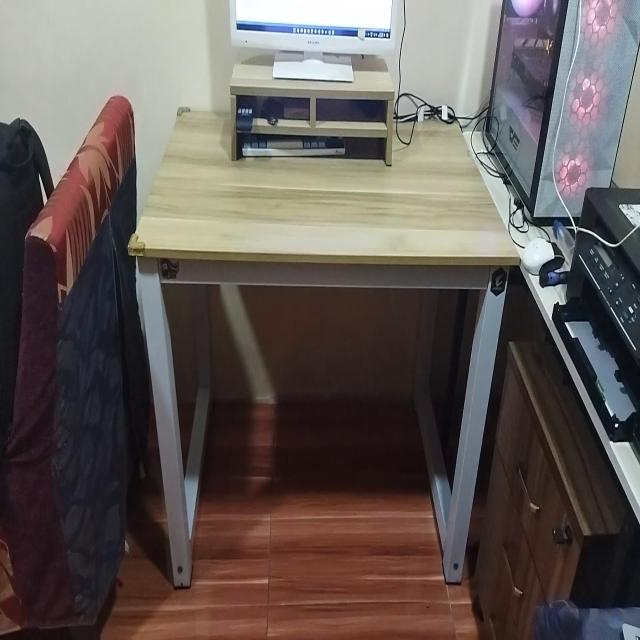table: (129, 101, 517, 592)
